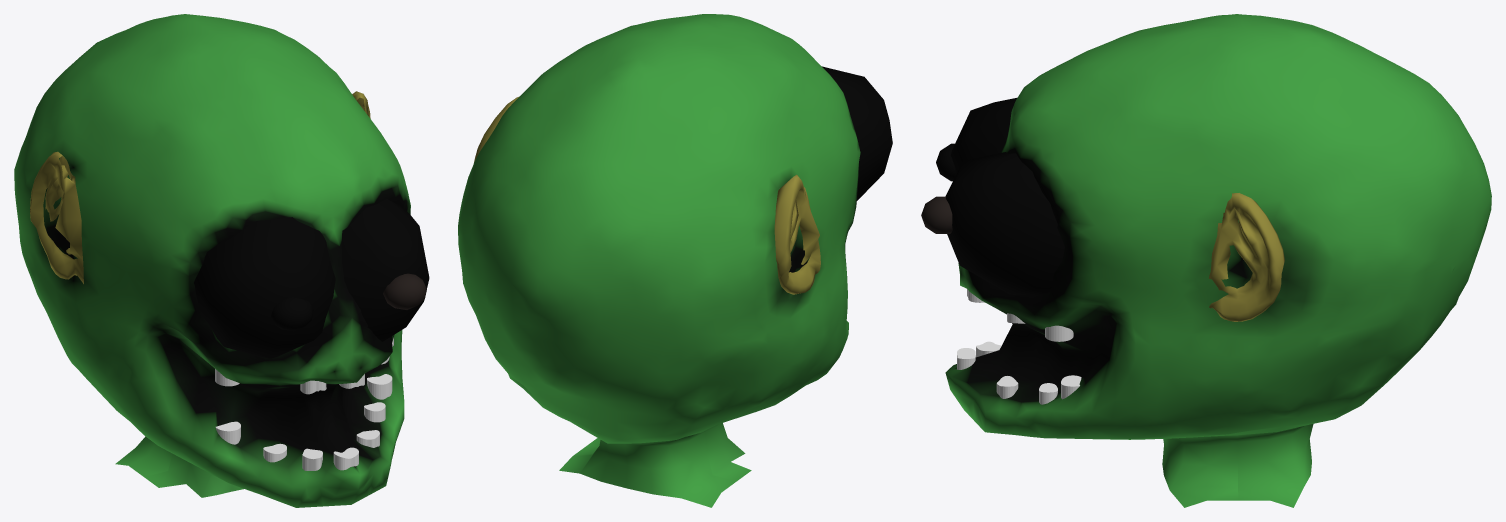
File: base_male_head.glb
The picture shows the model from 3 angles, left to right: view 1: azimuth 30°, elevation 25°; view 2: azimuth 150°, elevation 25°; view 3: azimuth 270°, elevation 25°; orthographic projection. The views are drawn at different scales.
Parts seen in each view (by area): view 1: Base, EyeRightOuter, EyeLeftOuter, EarRight, EyeLeftInner, EyeRightInner, Tooth.009, Tooth.007; view 2: Base, EyeRightOuter, EarRight; view 3: Base, EyeLeftOuter, EarLeft, EyeRightOuter, EyeLeftInner.
Boxes of the visible parts, box(x1,y1,x2,y2) form: Base: box(14, 14, 410, 507); EyeRightOuter: box(194, 217, 335, 358); EyeLeftOuter: box(341, 199, 429, 341); EarRight: box(30, 151, 83, 283); EyeLeftInner: box(383, 273, 426, 309); EyeRightInner: box(271, 297, 313, 331); Tooth.009: box(367, 374, 392, 399); Tooth.007: box(333, 447, 358, 470); Base: box(458, 14, 860, 507); EyeRightOuter: box(822, 66, 892, 200); EarRight: box(774, 174, 820, 294); Base: box(945, 14, 1491, 507); EyeLeftOuter: box(945, 152, 1064, 294); EarLeft: box(1209, 193, 1284, 321); EyeRightOuter: box(950, 98, 1016, 175); EyeLeftInner: box(921, 196, 952, 233).
Size of the model in its own units: 1.42 by 1.76 by 2.07.
